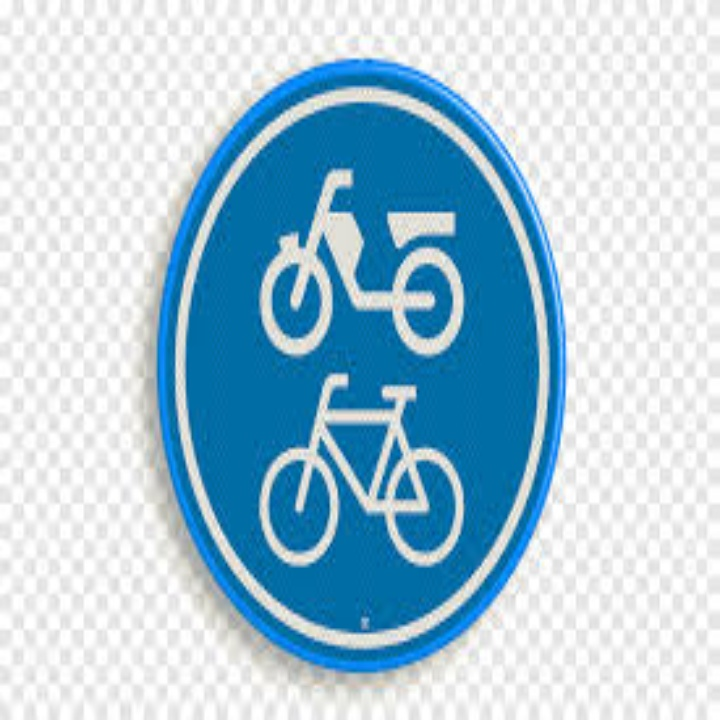bicycle: (251, 363, 483, 595)
